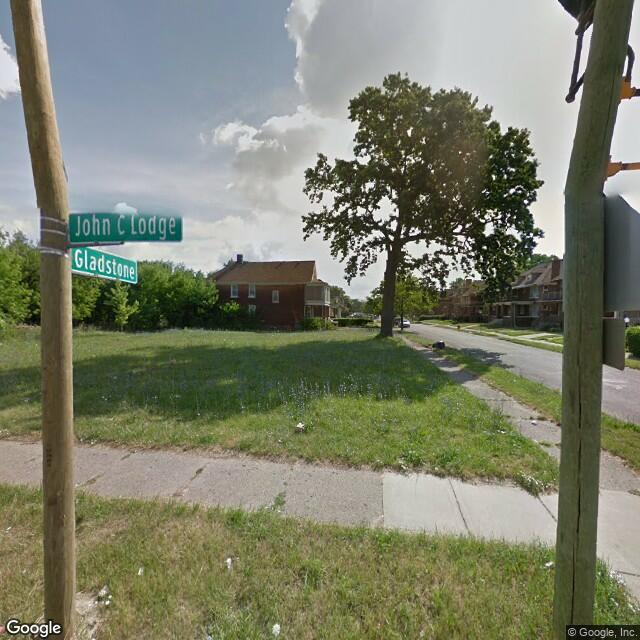litter: (433, 340, 446, 351), (295, 422, 309, 429), (226, 556, 232, 567), (530, 418, 537, 425)
